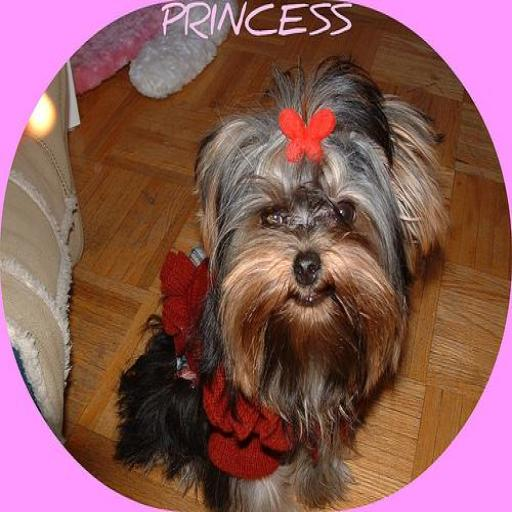dog_face: (201, 72, 392, 373)
